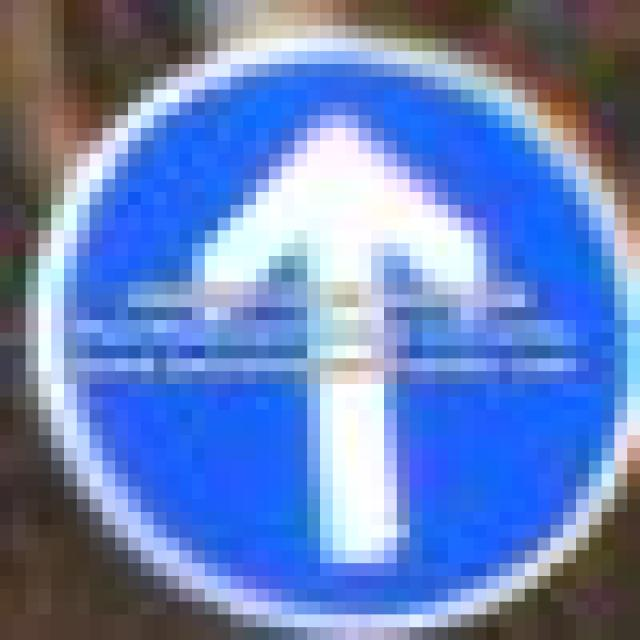COMPULSORY_AHEAD: (37, 51, 640, 640)
